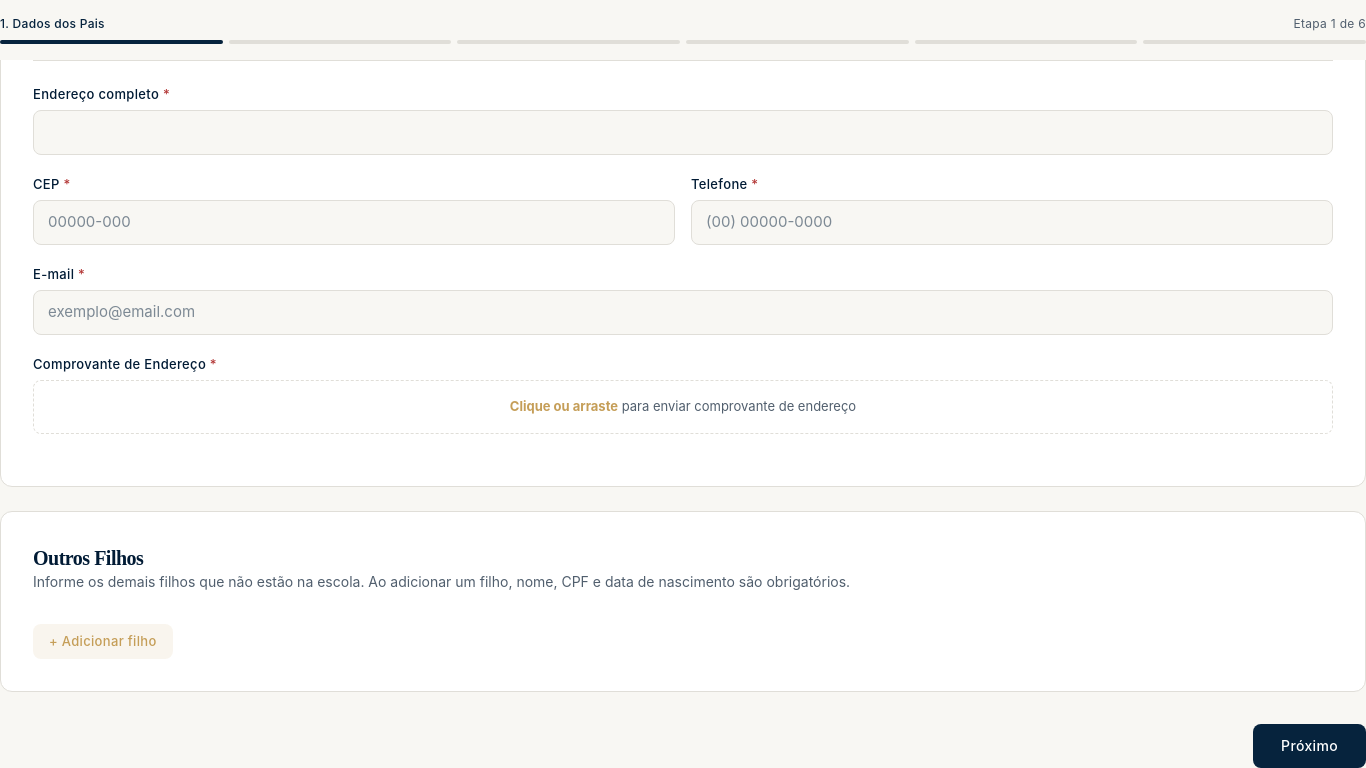
ScholarshipForm › validates step 1 required fields before allowing next
(page scrolled)
Step 1. Click the button with test id "btn-next" → (1310, 746), box [1253,724,1365,767]
(page scrolled)
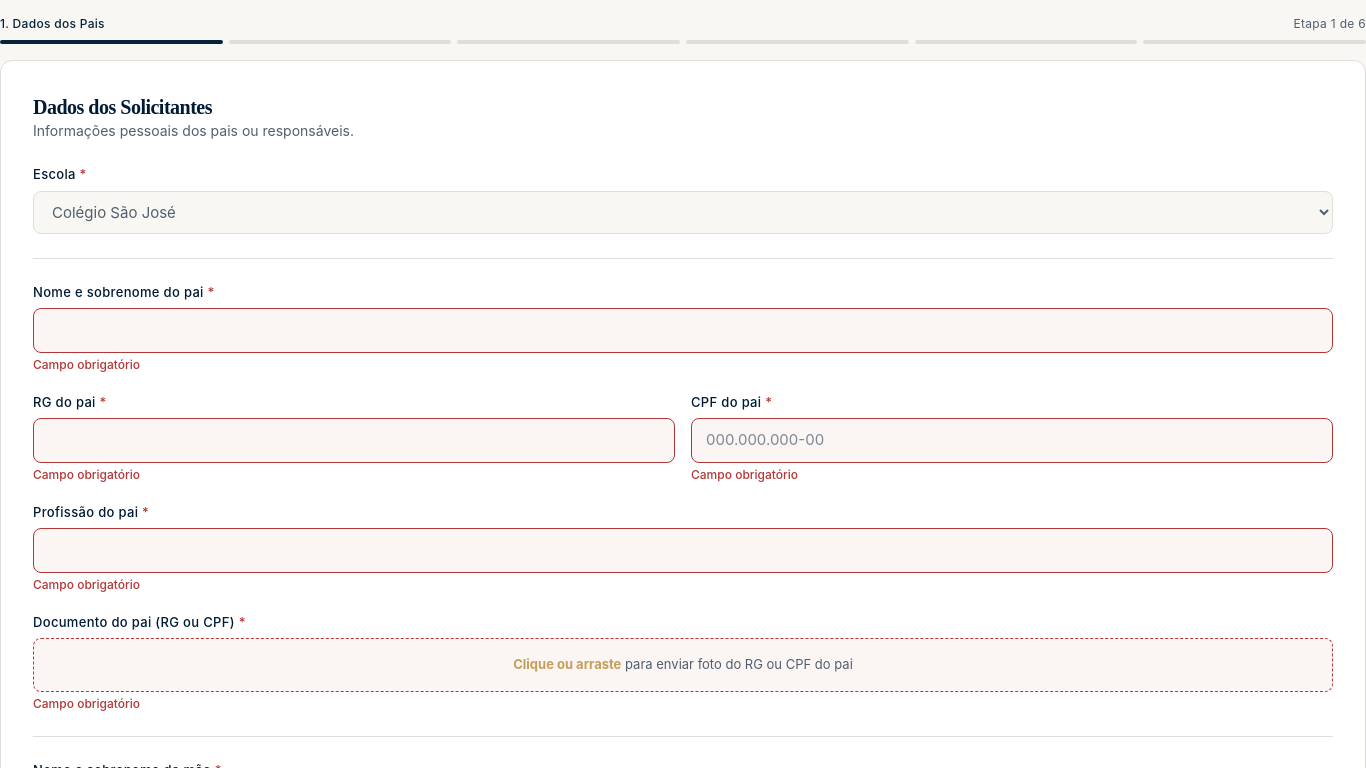
Now the text "Campo obrigatório" below "Nome e sobrenome do pai" is shown, box [33,356,140,372]
